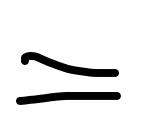eqv: (17, 52, 121, 105)
